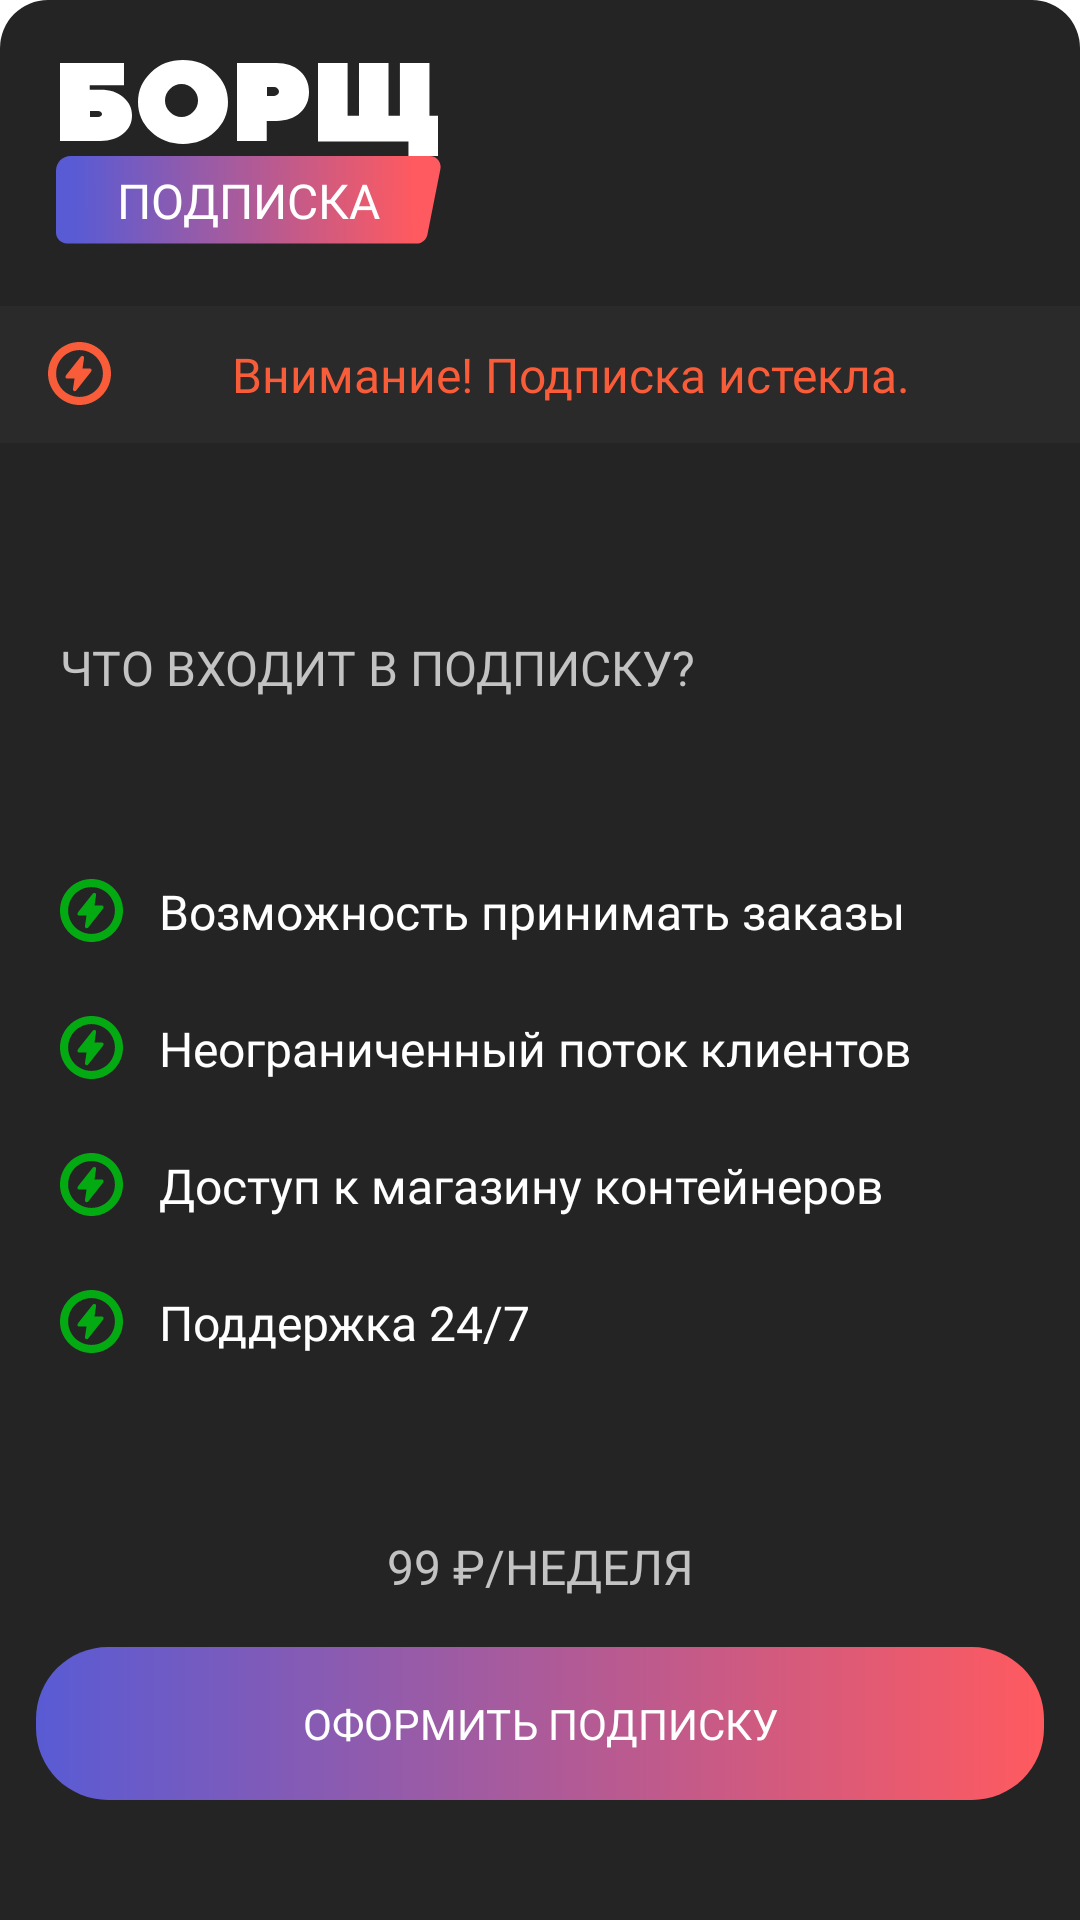

Named icons in this screenshot (1080×1920) and their centers, point (x, y):
alert: point (79, 373), point (91, 910), point (91, 1047), point (91, 1184), point (91, 1321)
